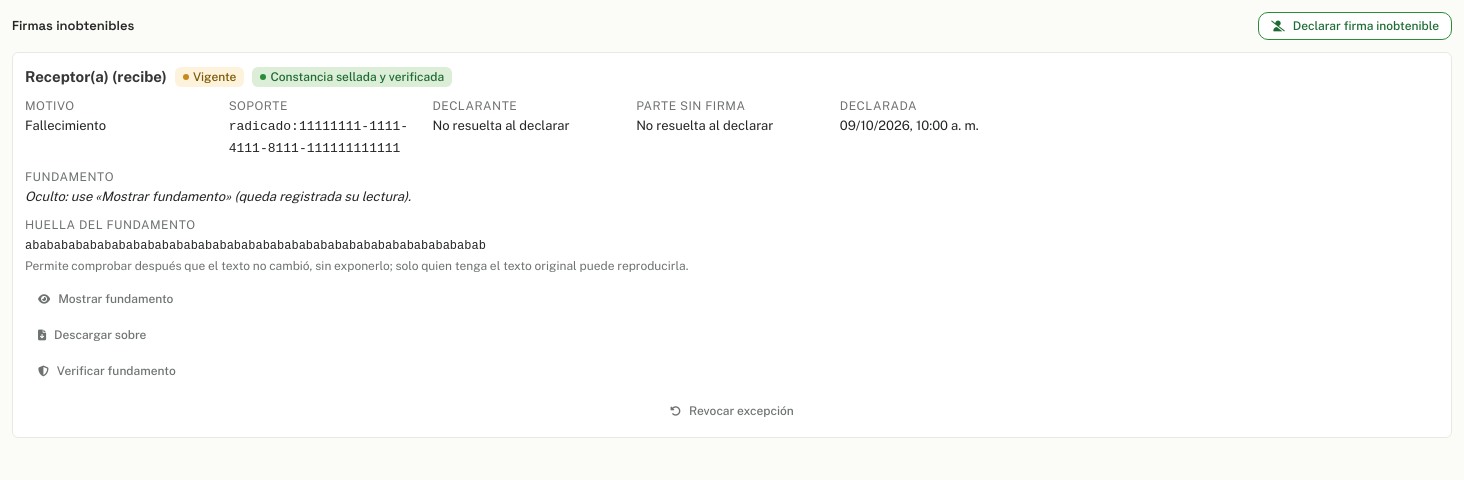
ExcepcionesFirma — sobre firmado › sin sobre o sin administración 3 no hay botón; un 404 se explica
Click the 3rd button named "descargar sobre": (92, 335) [25,321,160,349]
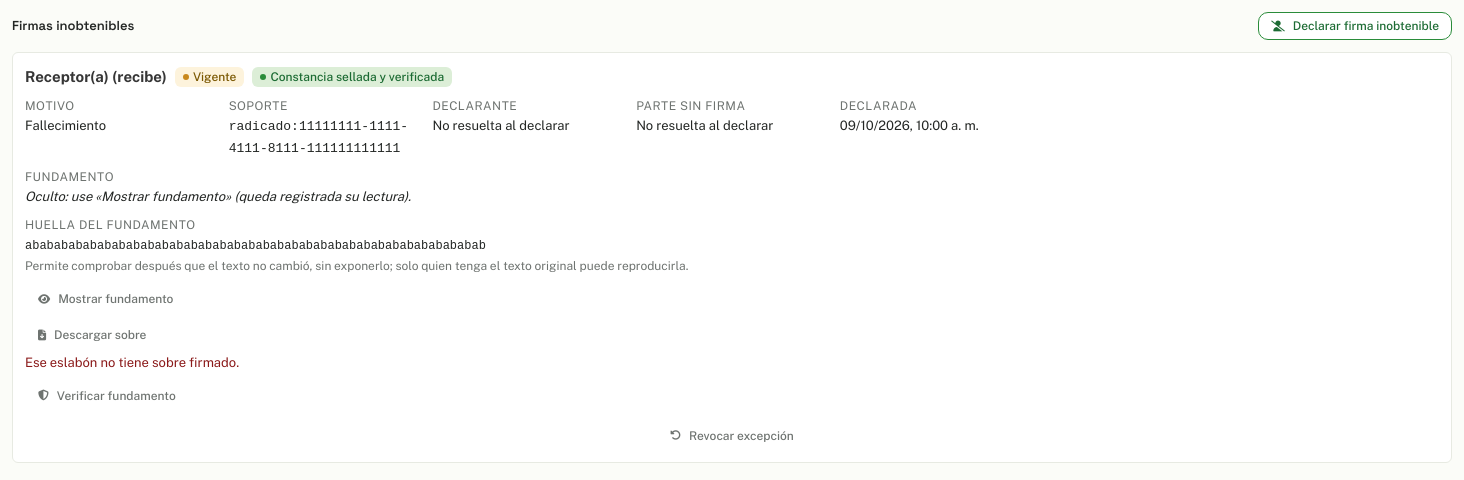
expect the message shows "no tiene sobre": met, box [25,355,239,370]
